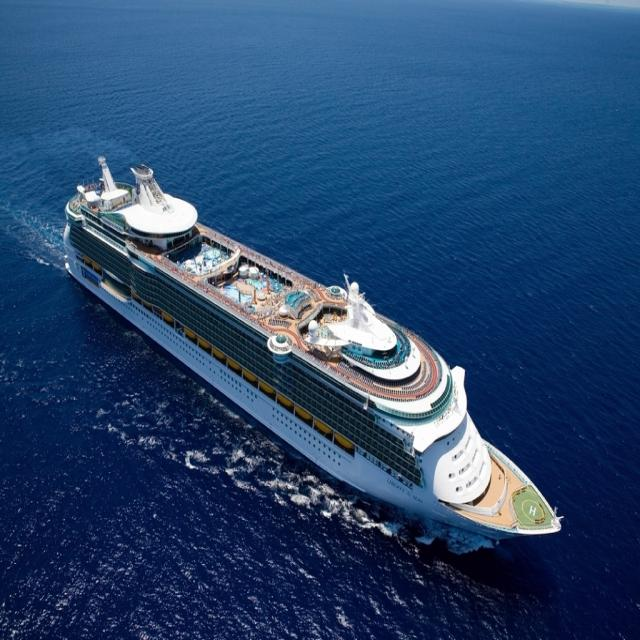Boat: (73, 137, 556, 548)
